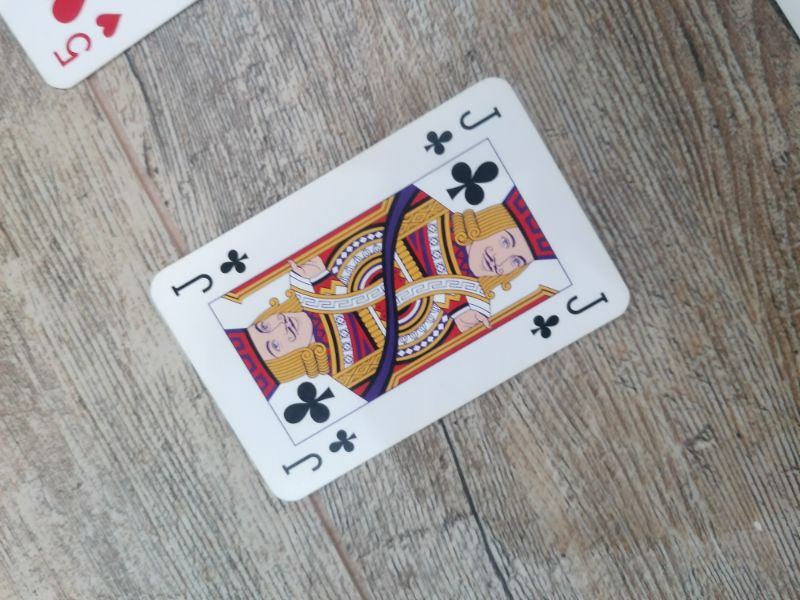5h: (46, 5, 124, 76)
Jc: (420, 100, 505, 161), (527, 289, 613, 345), (277, 427, 361, 483), (167, 247, 251, 302)
